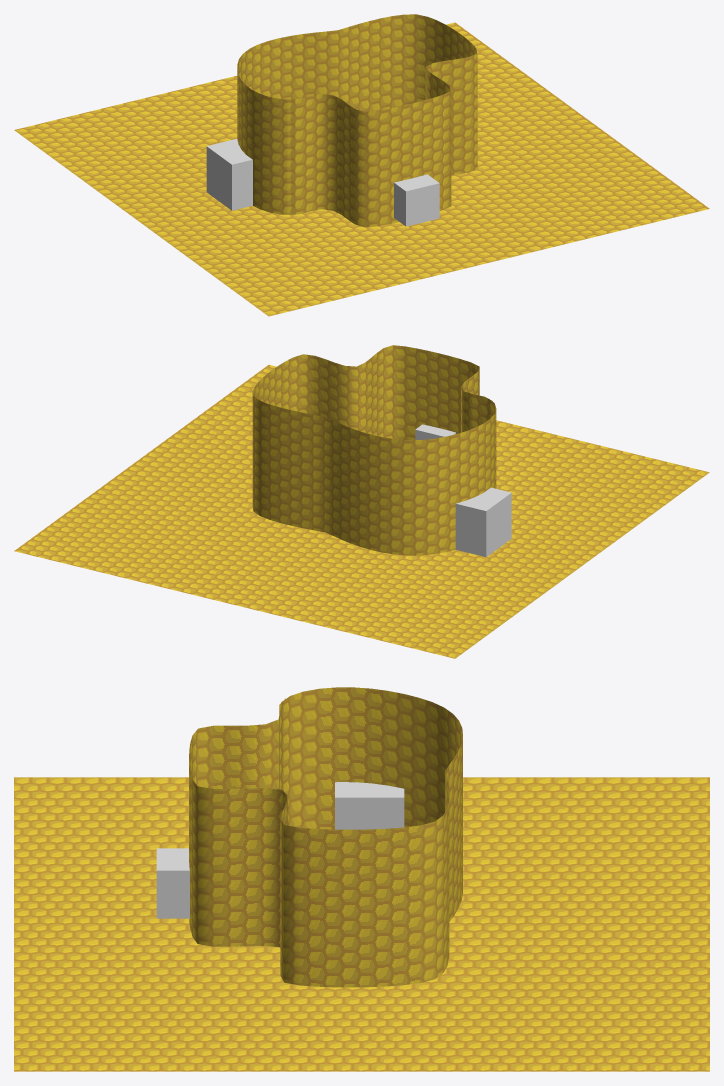
File: Bee Zone.glb
3 renders of one model, top to bottom at view 1: azimuth 30°, elevation 25°; view 2: azimuth 150°, elevation 25°; view 3: azimuth 270°, elevation 25°, orthographic. The views are drawn at different scales.
Visible parts, largest first — view 1: Hive Floor, Plane.001, Placeholder Exit, Placeholder Exit.001; view 2: Hive Floor, Plane.001, Placeholder Exit; view 3: Hive Floor, Plane.001, Placeholder Exit, Placeholder Exit.001.
Part boxes in pixels (bbox=[...]): Hive Floor: bbox=[14, 22, 709, 316]; Plane.001: bbox=[237, 14, 477, 227]; Placeholder Exit: bbox=[206, 139, 252, 210]; Placeholder Exit.001: bbox=[394, 174, 439, 226]; Hive Floor: bbox=[14, 365, 709, 658]; Plane.001: bbox=[252, 345, 496, 555]; Placeholder Exit: bbox=[455, 487, 511, 557]; Hive Floor: bbox=[14, 777, 709, 1071]; Plane.001: bbox=[189, 687, 462, 987]; Placeholder Exit: bbox=[335, 782, 404, 829]; Placeholder Exit.001: bbox=[156, 848, 189, 918].
Bounding box in the file's own units: 80 × 20.8 × 80.
Materials: 1 (1 with a texture image).
